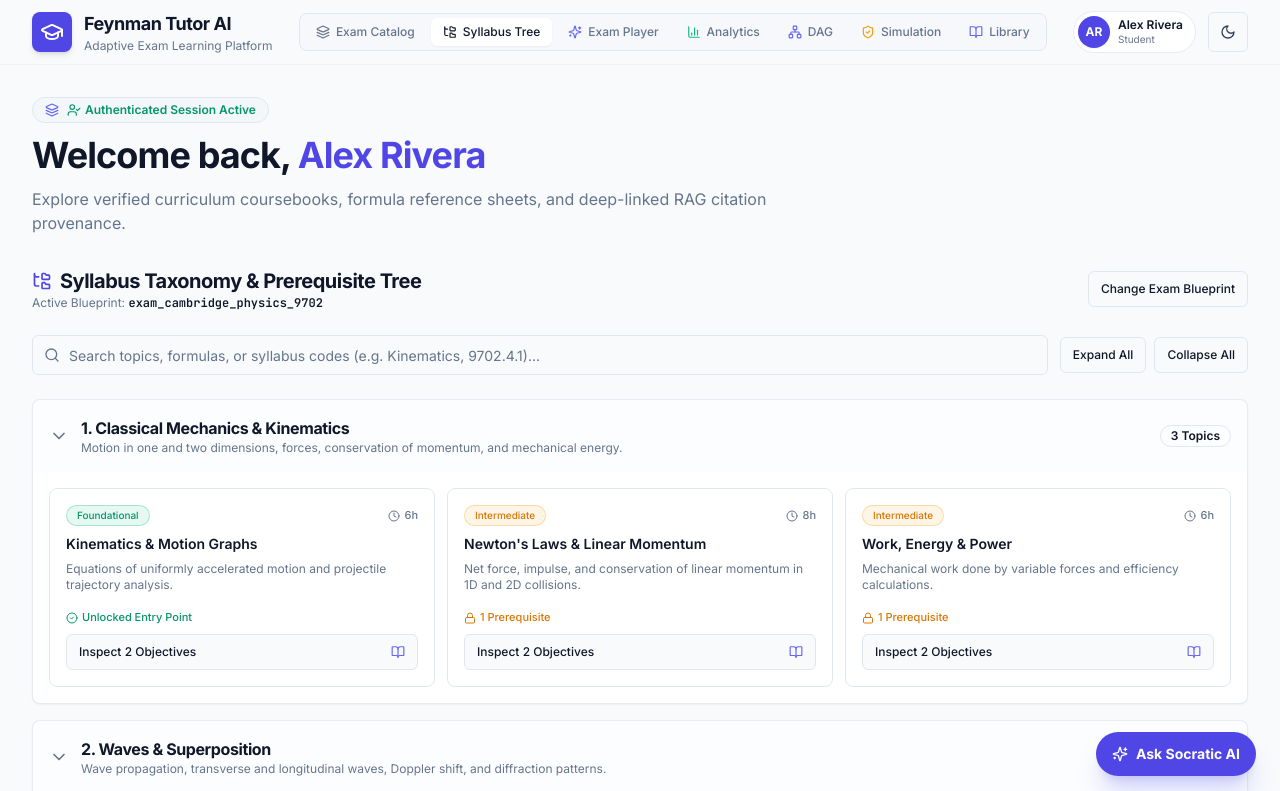
Full-Length Exam Readiness Simulation Suite › views calibrated diagnostic score report and print export
The width and height of the screenshot is (1280, 791).
What coordinates should you click on to do the following:
click the button "Simulation"
I would click on:
 (901, 32)
Its box is [849,18,953,46].
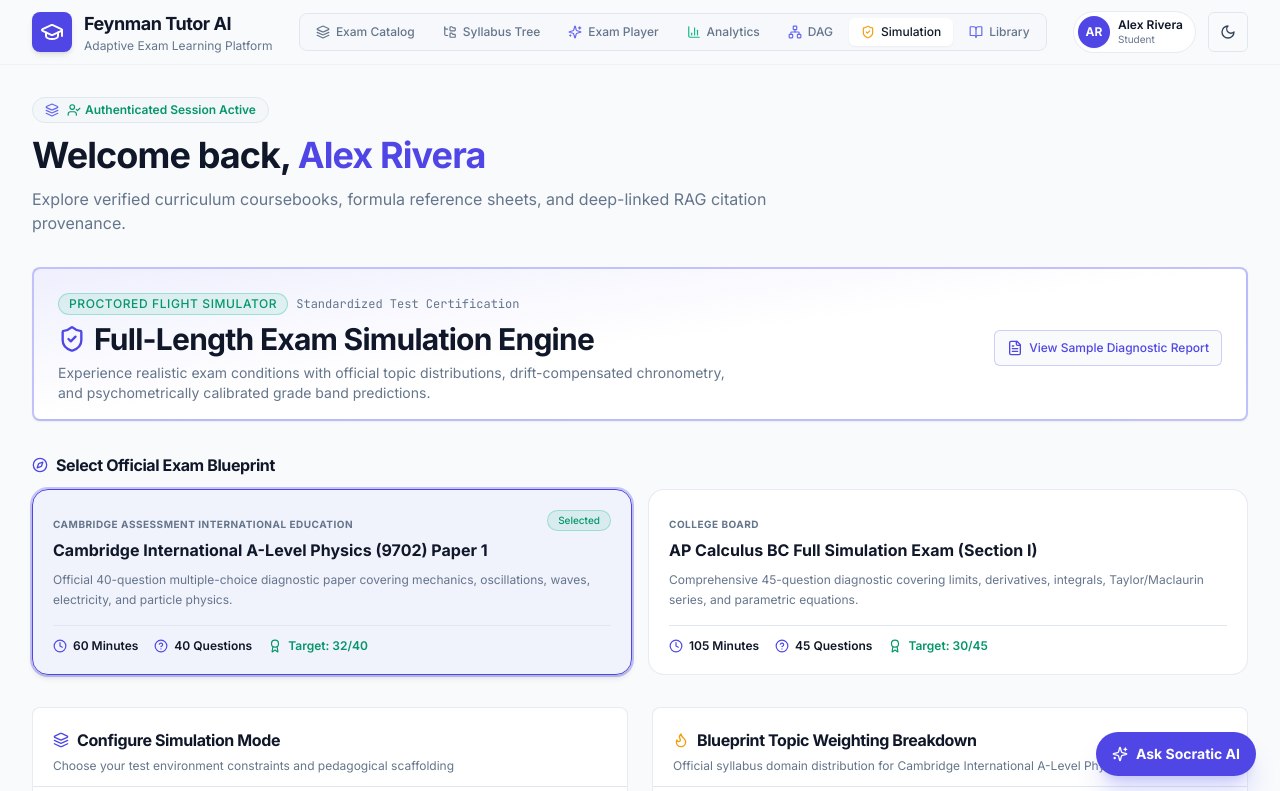
What coordinates should you click on to do the following:
click the button "View Sample Diagnostic Report"
I would click on:
 (1108, 348)
Its box is [994,330,1222,366].
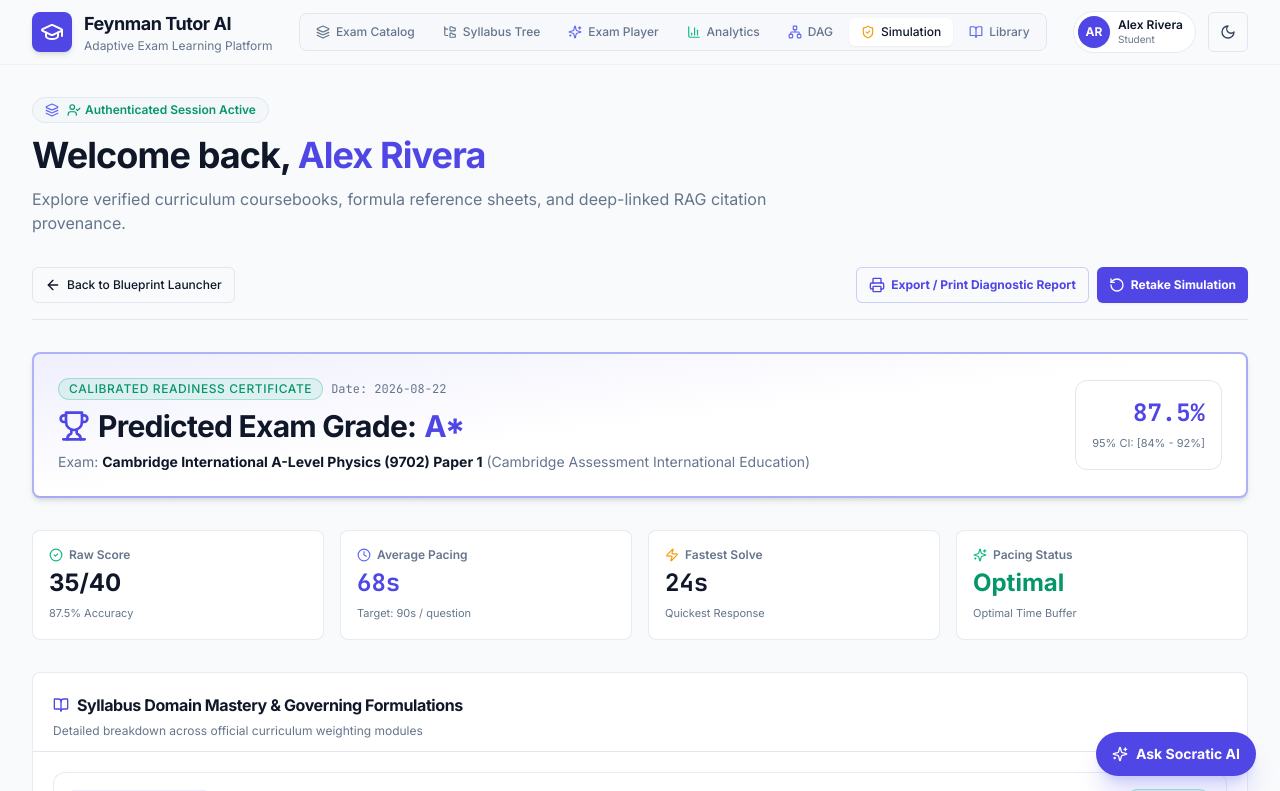
Expected: the text "Calibrated Readiness Certificate" is shown, [58,378,323,400]
Expected: the heading "Predicted Exam Grade: A*" is shown, [58,408,464,444]
Expected: the text "87.5%" is shown, [1133,397,1205,428]
What coordinates should you click on to do the following:
click the button "Back to Blueprint Launcher"
I would click on:
 (133, 285)
Its box is [32,267,235,303].
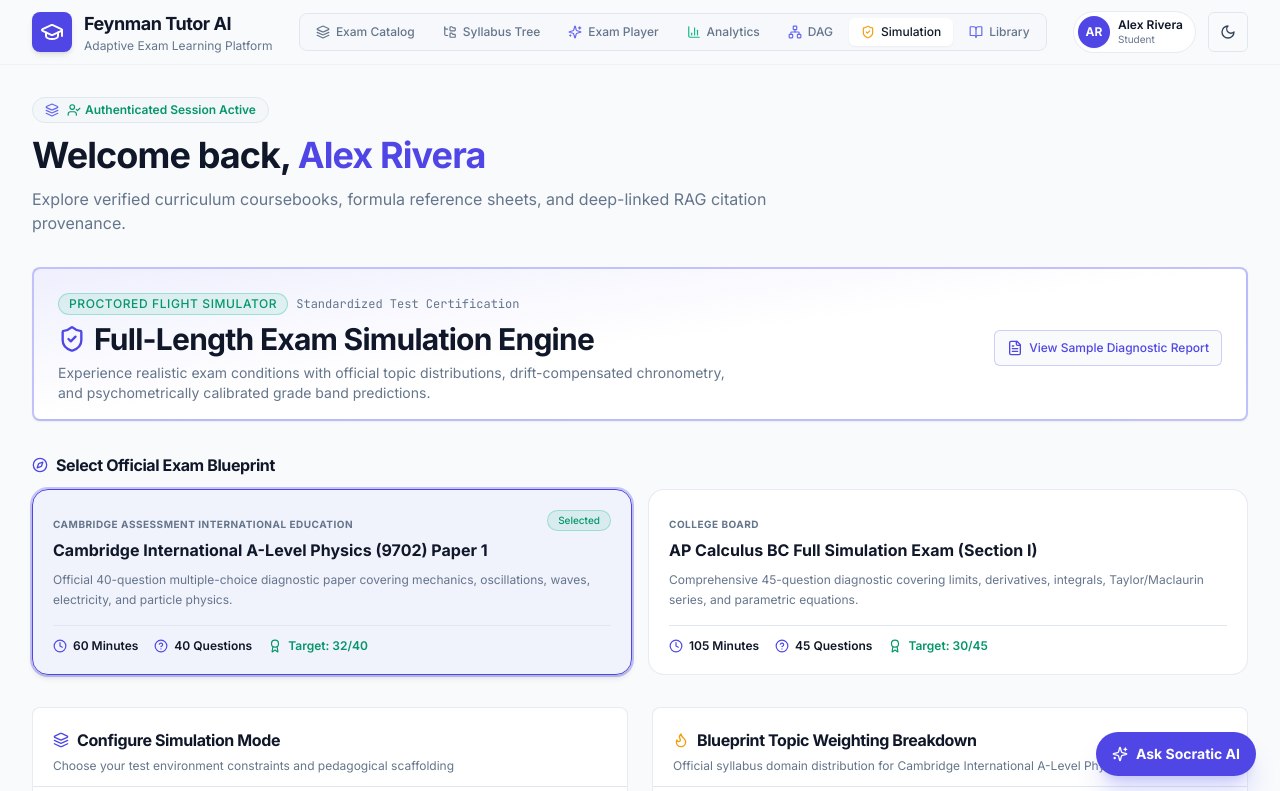
Expected: the heading "Full-Length Exam Simulation Engine" is shown, [58,321,594,357]
